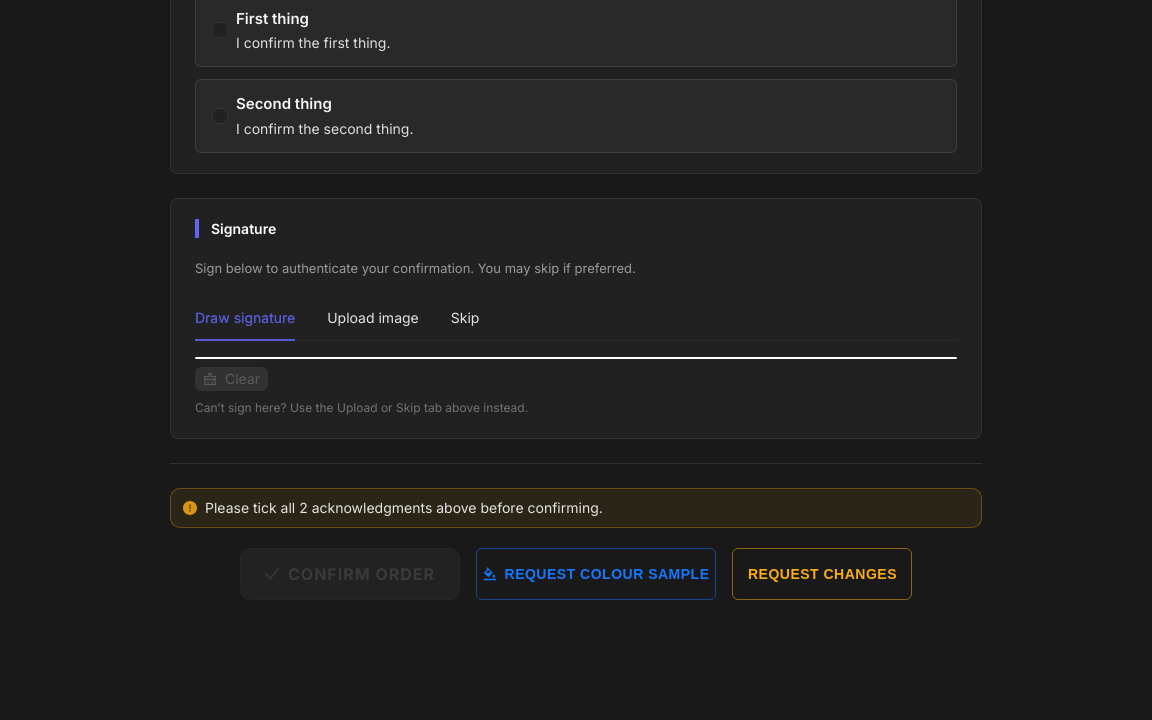
Test: CustomerOrderView › requesting a colour sample opens a confirm modal, posts to the dedicated endpoint, and disables the action
(page scrolled)
Click the button "Request Colour Sample" at (596, 574), box [476,548,716,600]
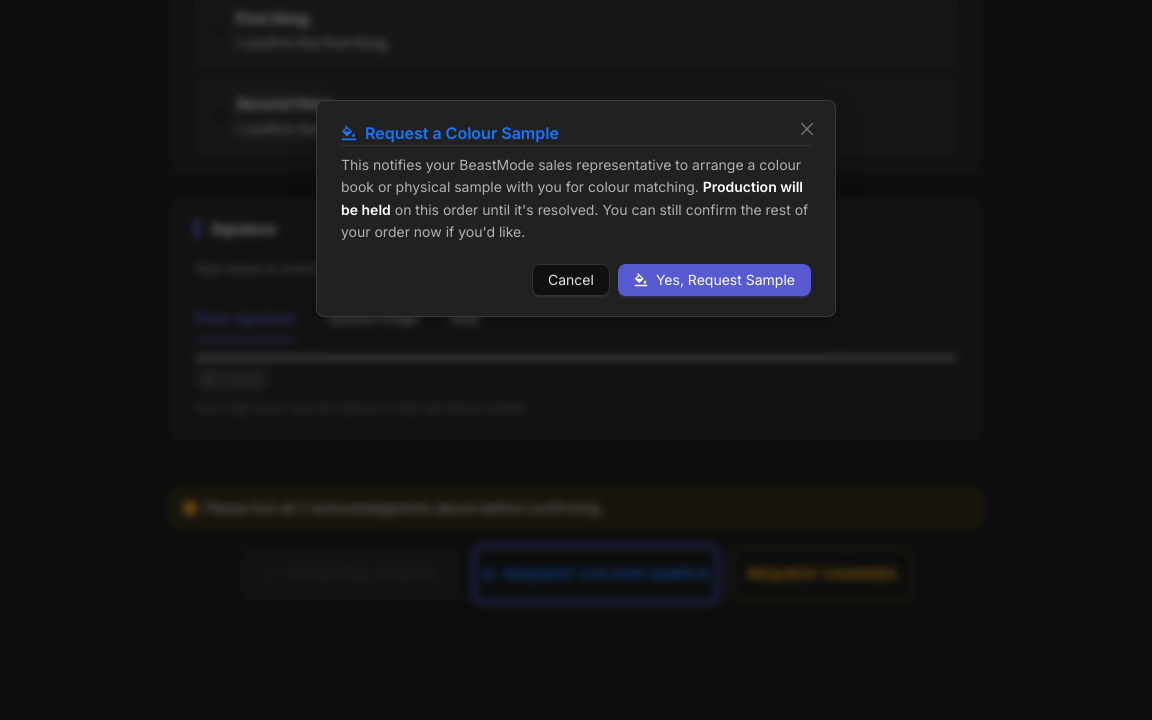
Result: the text "Production will be held" is shown at [341,178,803,218]
Click the button "Yes, Request Sample" at (714, 280), box [618,264,811,296]
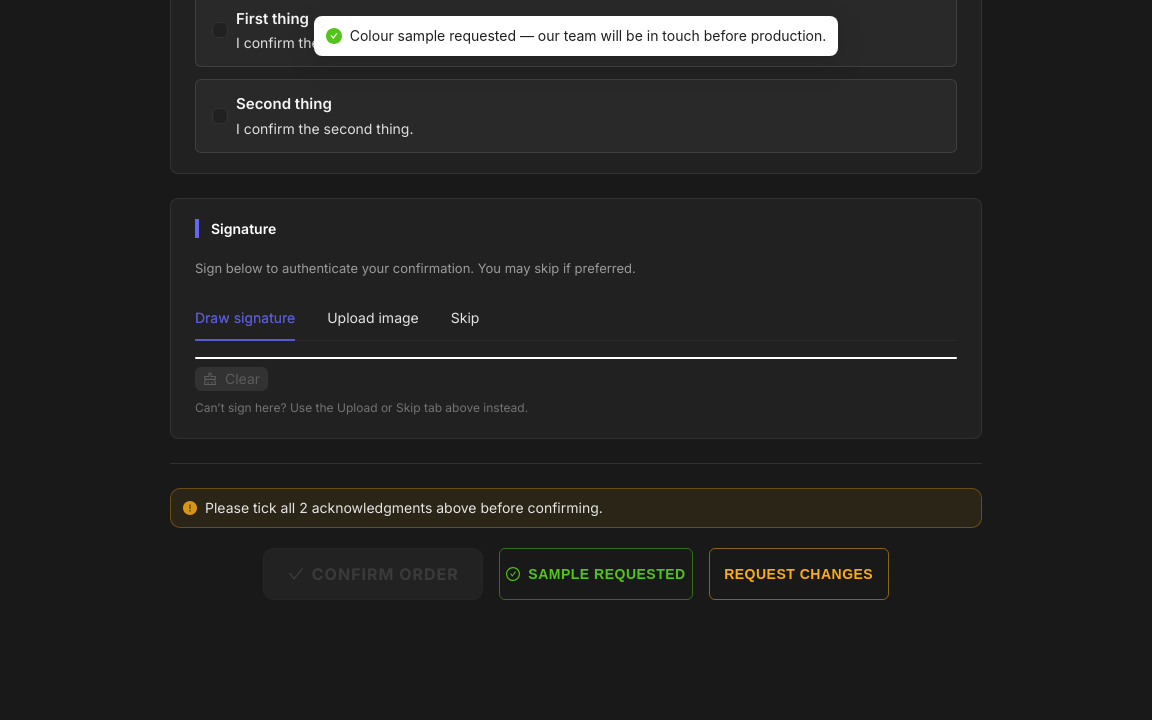
Result: the button "Sample Requested" is disabled at [499,548,693,600]
